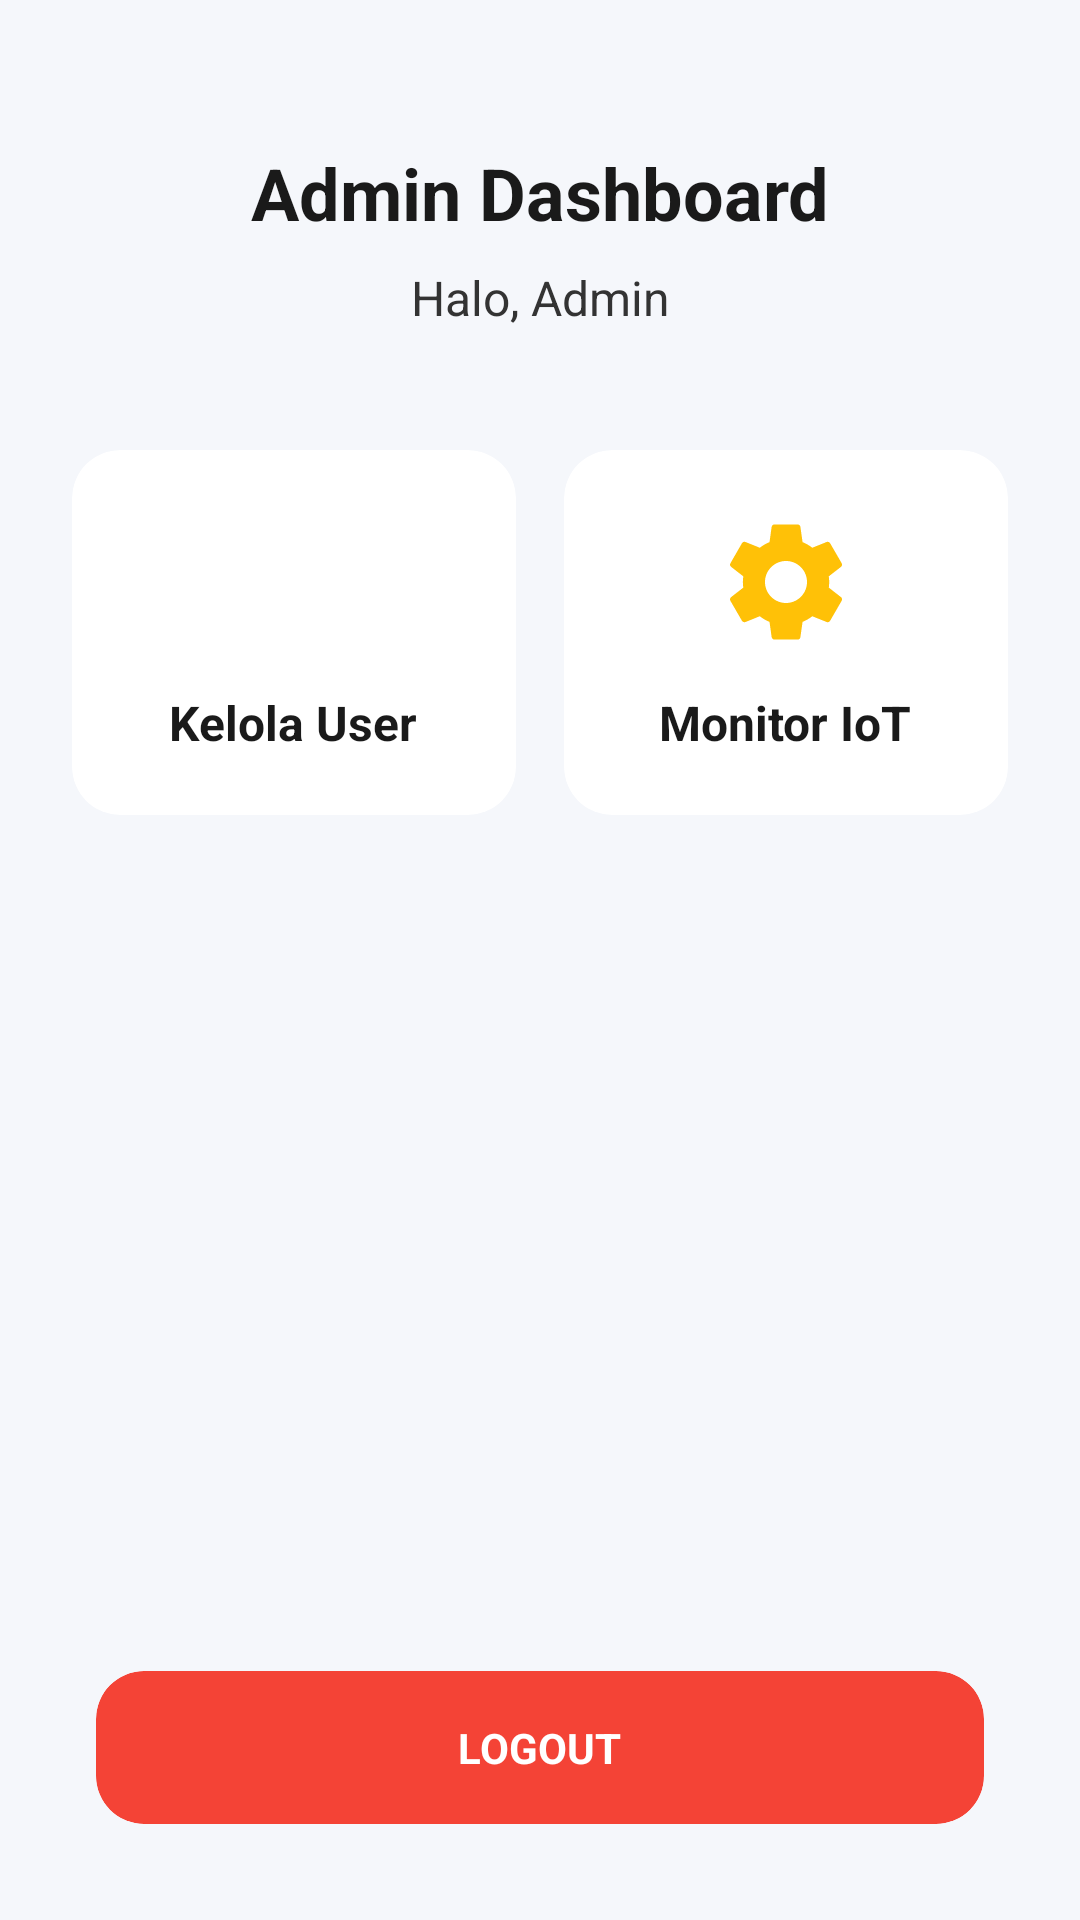

Icon bounding boxes for this 1080 x 1920 phone screenshot, format (x1, y1, x2, y2):
settings: (730, 524, 842, 640)
